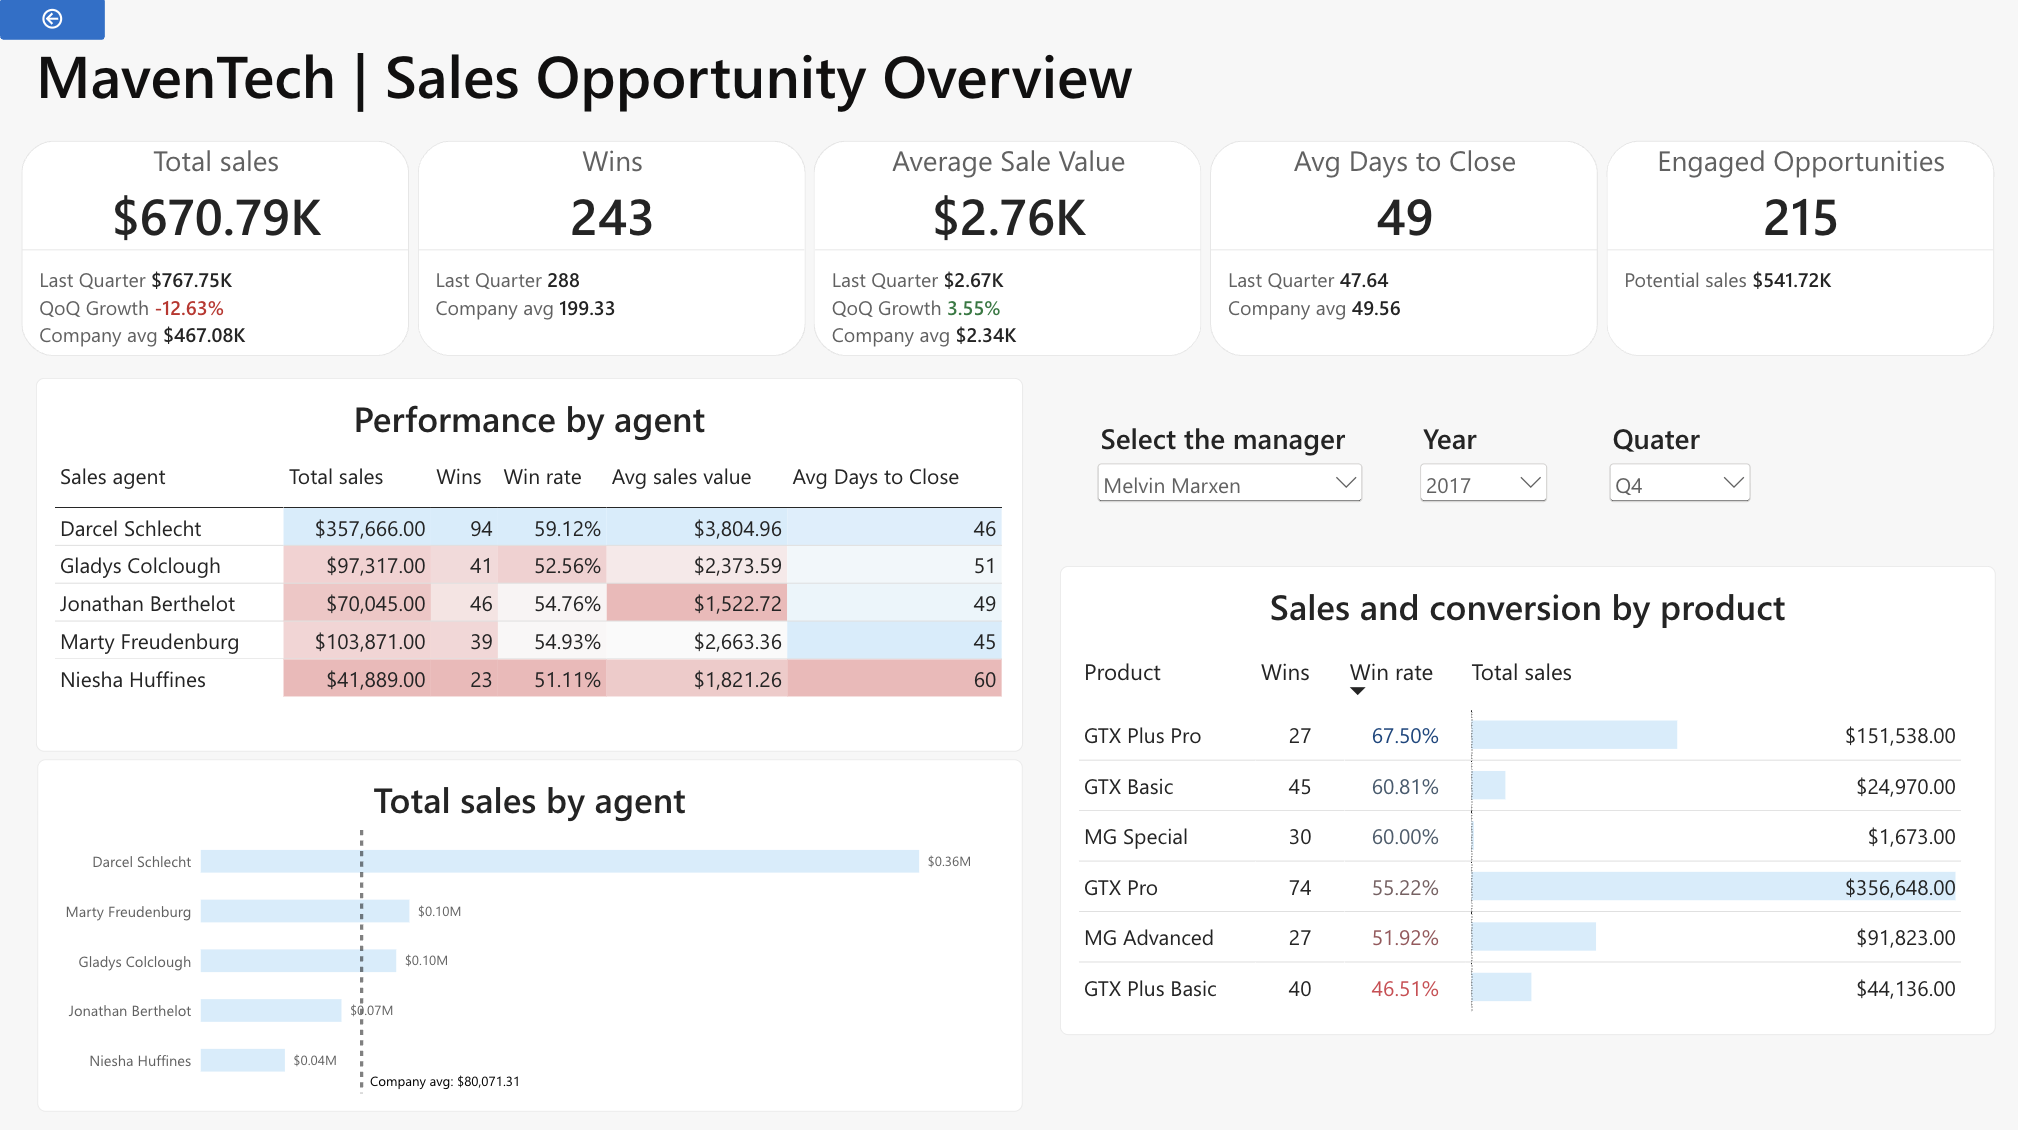

The page's visual inventory and layout, read from the dashboard file:
{"tool":"powerbi","page":{"name":"Page 1","canvas":[1920,1080],"ordinal":0},"visuals":[{"type":"textbox","box":[34.5,34.5,1175.2,101.8],"z":0},{"type":"slicer","fields":{"Values":["sales_teams 1.manager"]},"box":[1039,400.9,262.6,101.8],"z":1000},{"type":"slicer","fields":{"Values":["Calendar.Year"]},"box":[1345.9,400.9,131.3,101.8],"z":2000},{"type":"slicer","fields":{"Values":["Calendar.Quarter"]},"box":[1526.6,400.9,144.4,101.8],"z":3000},{"type":"actionButton","box":[0,0,100,40],"z":4000},{"type":"cardVisual","fields":{"Data":["sales_pipeline 1.Won revenue","sales_pipeline 1.Won Deals","sales_pipeline 1.Average Won Deal","sales_pipeline 1.Avg Days to Close Won Deals","sales_pipeline 1.Engaged Opportunities"]},"box":[20.7,135.5,1878.6,205.2],"z":5000},{"type":"clusteredBarChart","title":"Total sales by agent","fields":{"Category":["sales_pipeline 1.sales_agent"],"Y":["sales_pipeline 1.Won revenue"]},"box":[35.8,724.7,937.4,335.1],"z":6000},{"type":"tableEx","title":"Performance by agent","fields":{"Values":["sales_pipeline 1.sales_agent","sales_pipeline 1.Won revenue","sales_pipeline 1.Won Deals","sales_pipeline 1.Win rate","sales_pipeline 1.Average Won Deal","sales_pipeline 1.Avg Days to Close Won Deals"]},"box":[33.9,361.4,939.3,355.8],"z":7000},{"type":"tableEx","title":"Sales and conversion by product","fields":{"Values":["sales_pipeline 1.product","sales_pipeline 1.Won Deals","sales_pipeline 1.Win rate","sales_pipeline 1.Won revenue"]},"box":[1008.9,540.2,890.3,446.1],"z":8000}]}

Visuals, with their boxes on the page's 1920x1080 design canvas (x1, y1, x2, y2). These are canvas units, not pixel positions in the 2018x1130 screenshot, which may show the page scaled, cropped or inside an application window:
textbox: [34,34,1210,136]
slicer - sales_teams 1.manager: [1039,401,1302,503]
slicer - Calendar.Year: [1346,401,1477,503]
slicer - Calendar.Quarter: [1527,401,1671,503]
actionButton: [0,0,100,40]
cardVisual - sales_pipeline 1.Won revenue x sales_pipeline 1.Won Deals: [21,136,1899,341]
"Total sales by agent" clusteredBarChart: [36,725,973,1060]
"Performance by agent" tableEx: [34,361,973,717]
"Sales and conversion by product" tableEx: [1009,540,1899,986]
